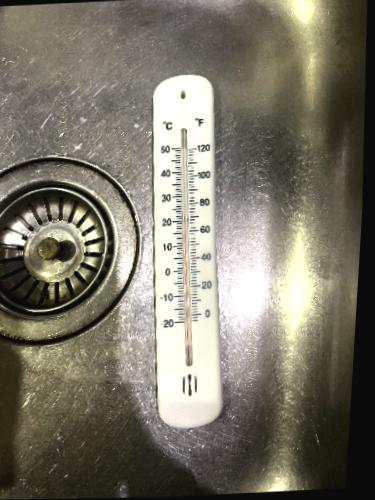thermo: (152, 77, 222, 426)
